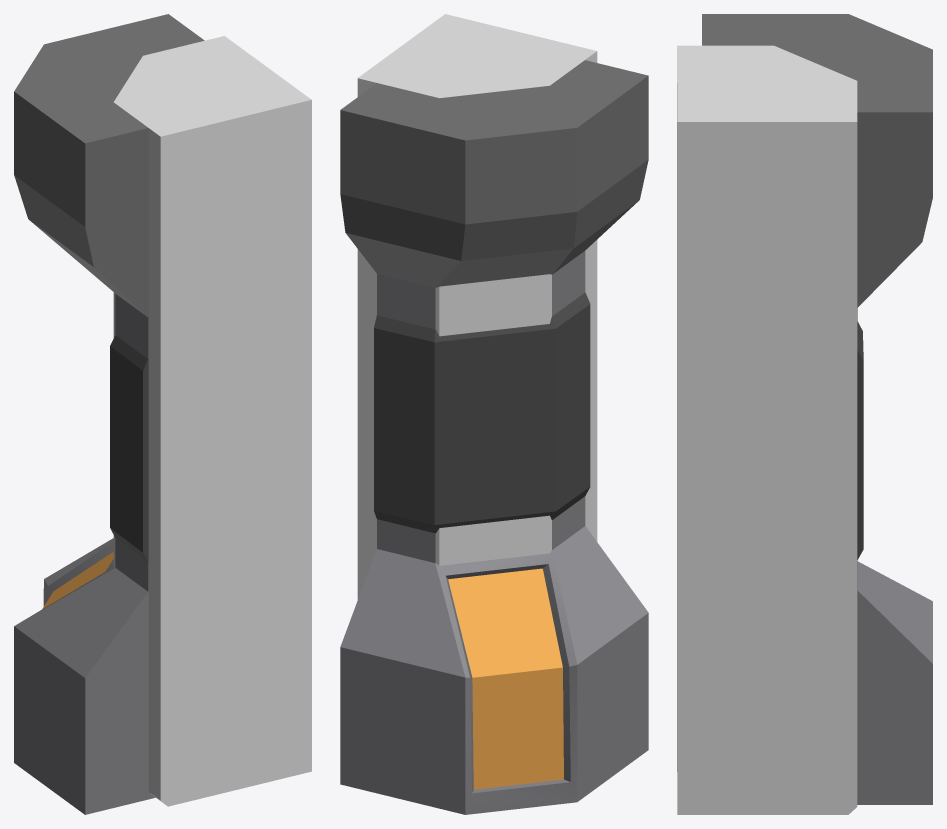
The model's file is SM_Bld_Wall_Corner_Pillar_Wide_02.fbx.
The picture shows the model from 3 angles, left to right: view 1: azimuth 30°, elevation 25°; view 2: azimuth 150°, elevation 25°; view 3: azimuth 270°, elevation 25°; orthographic projection. The views are drawn at different scales.
Parts seen in each view (by area): view 1: SM_Bld_Wall_Corner_Pillar_Wide_02_ConvexHulls, SM_Bld_Wall_Corner_Pillar_Wide_02_LOD0; view 2: SM_Bld_Wall_Corner_Pillar_Wide_02_LOD0, SM_Bld_Wall_Corner_Pillar_Wide_02_ConvexHulls; view 3: SM_Bld_Wall_Corner_Pillar_Wide_02_ConvexHulls, SM_Bld_Wall_Corner_Pillar_Wide_02_LOD0.
Boxes of the visible parts, bbox=[...] form: SM_Bld_Wall_Corner_Pillar_Wide_02_ConvexHulls: bbox=[113, 36, 311, 806]; SM_Bld_Wall_Corner_Pillar_Wide_02_LOD0: bbox=[14, 14, 204, 814]; SM_Bld_Wall_Corner_Pillar_Wide_02_LOD0: bbox=[340, 60, 648, 814]; SM_Bld_Wall_Corner_Pillar_Wide_02_ConvexHulls: bbox=[357, 14, 597, 599]; SM_Bld_Wall_Corner_Pillar_Wide_02_ConvexHulls: bbox=[677, 45, 857, 814]; SM_Bld_Wall_Corner_Pillar_Wide_02_LOD0: bbox=[702, 14, 932, 804].
Size of the model in its own units: 170 by 170 by 509.
Materials: 1 (1 with a texture image).
